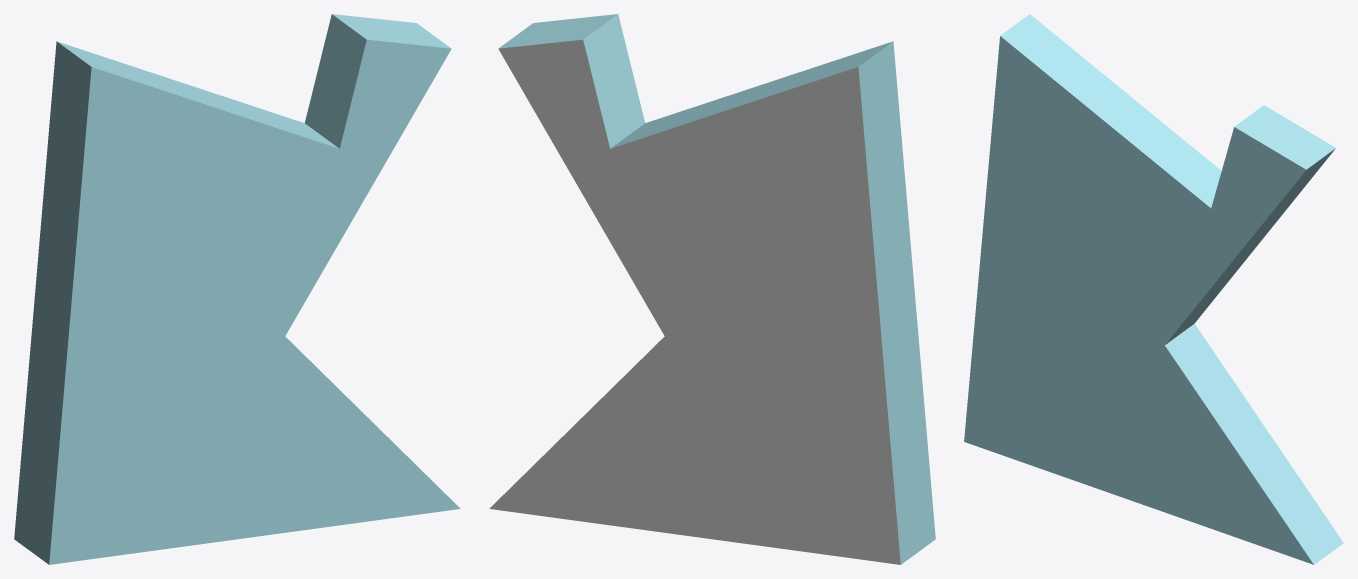
The model's file is chrome8.glb.
The picture shows the model from 3 angles, left to right: view 1: azimuth 30°, elevation 25°; view 2: azimuth 150°, elevation 25°; view 3: azimuth 330°, elevation 25°; orthographic projection. The views are drawn at different scales.
Visible parts, largest first — view 1: Plane.009; view 2: Plane.009; view 3: Plane.009.
Boxes of the visible parts, left/top/right/bottom form: Plane.009: left=14, top=14, right=460, bottom=564; Plane.009: left=489, top=14, right=935, bottom=564; Plane.009: left=964, top=14, right=1343, bottom=564.
Bounding box in the file's own units: 33.89 × 41.87 × 5.
